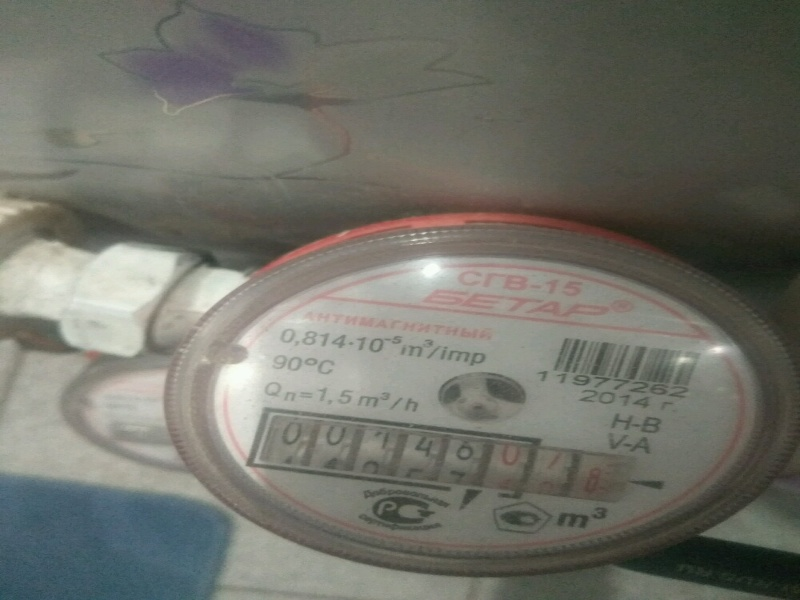meter: (269, 424, 600, 500)
